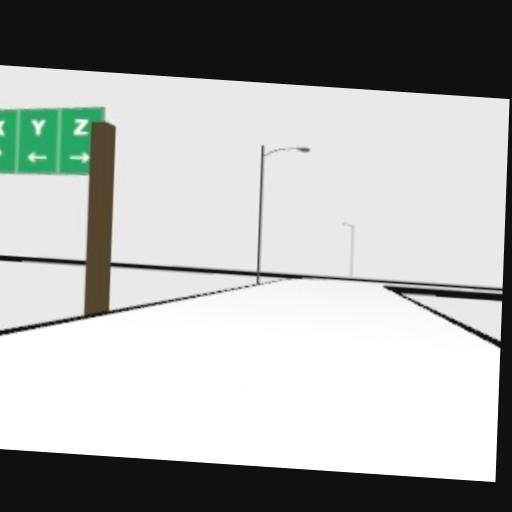Left: (28, 150, 47, 162)
Right: (67, 149, 90, 162)
Straight: (0, 144, 1, 165)
X: (0, 116, 4, 134)
Y: (30, 116, 45, 133)
Z: (71, 117, 88, 135)
